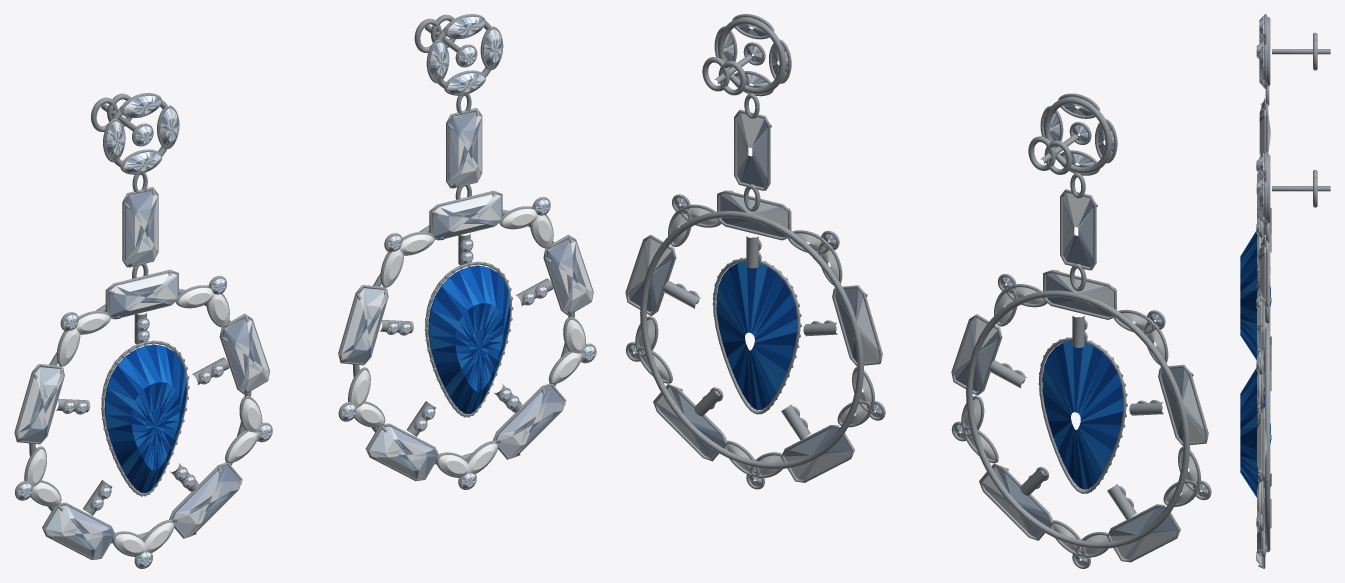
Rendered from earrings.glb.
3 renders of one model, left to right at view 1: azimuth 30°, elevation 25°; view 2: azimuth 150°, elevation 25°; view 3: azimuth 270°, elevation 25°, orthographic. The views are drawn at different scales.
Parts seen in each view (by area): view 1: Blue pear drop earrings; view 2: Blue pear drop earrings; view 3: Blue pear drop earrings.
Boxes of the visible parts, x1,y1,x2,y2 form: Blue pear drop earrings: [14, 14, 596, 568]; Blue pear drop earrings: [625, 14, 1211, 568]; Blue pear drop earrings: [1240, 14, 1330, 568].
Size of the model in its own units: 0.0647 by 0.0503 by 0.01.
